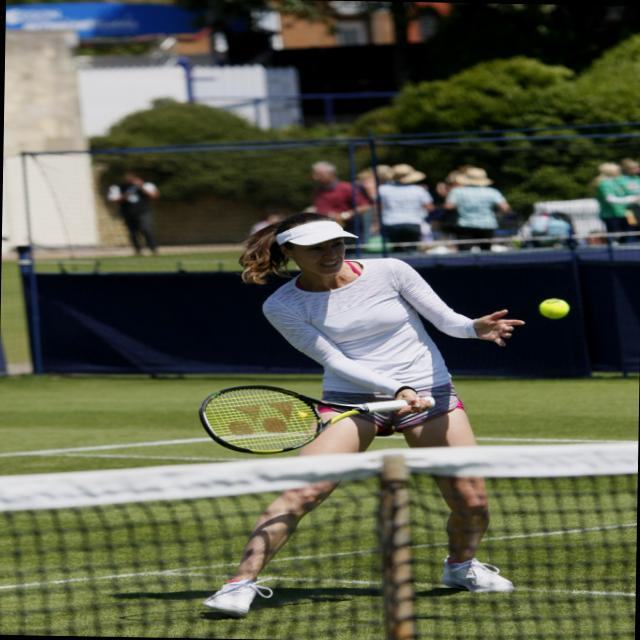Tennis Ball: (539, 298, 568, 318)
